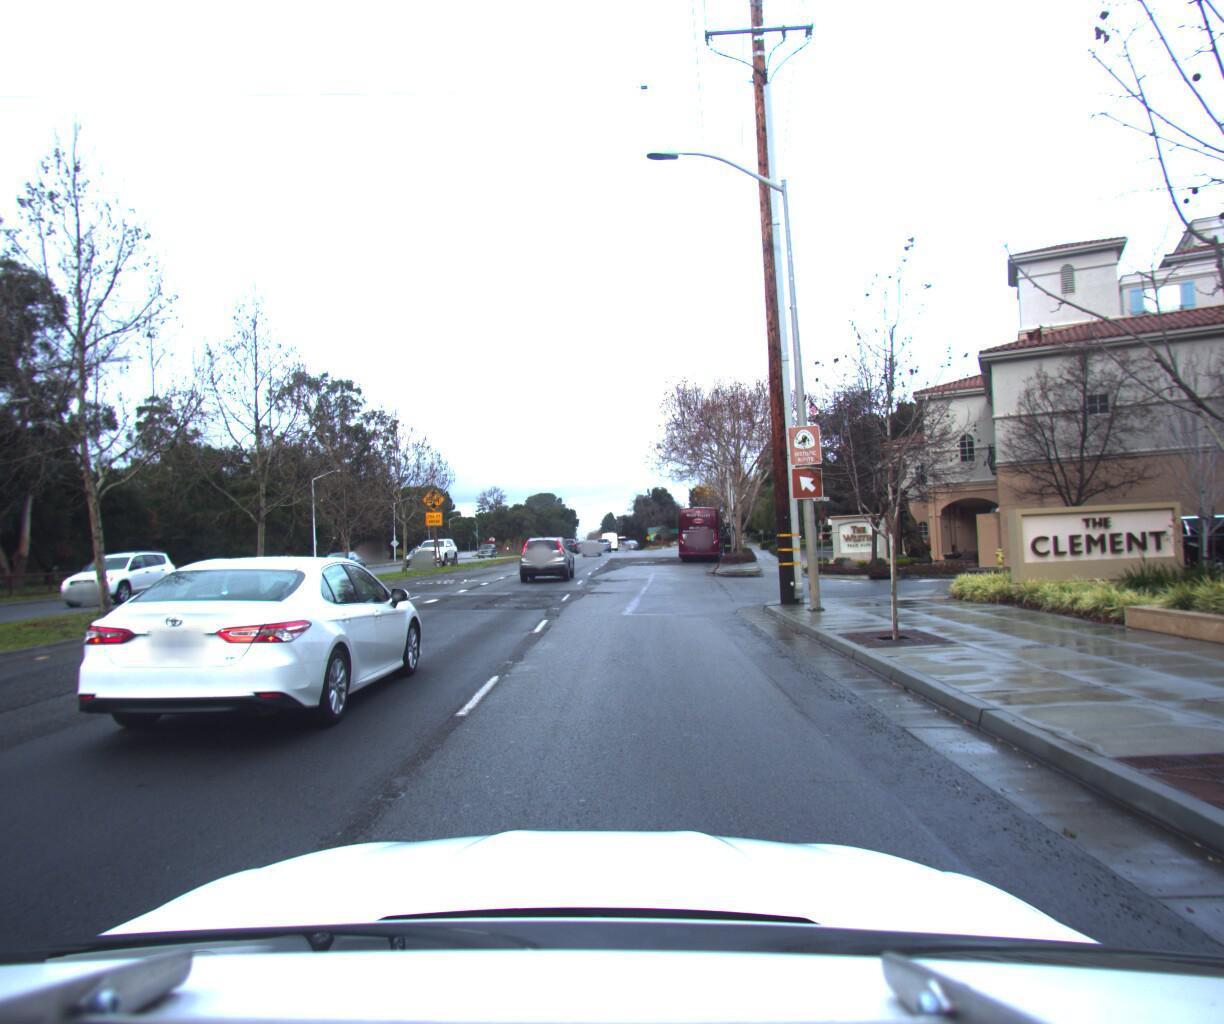bus: (676, 504, 729, 558)
car: (28, 539, 435, 756), (1038, 506, 1224, 577), (57, 545, 189, 604), (518, 531, 577, 584), (313, 545, 372, 575), (414, 535, 460, 567), (582, 538, 601, 556)
